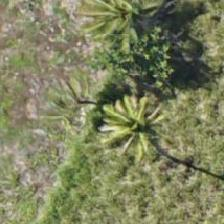coconut_tree: (83, 80, 173, 170), (78, 0, 168, 48)
